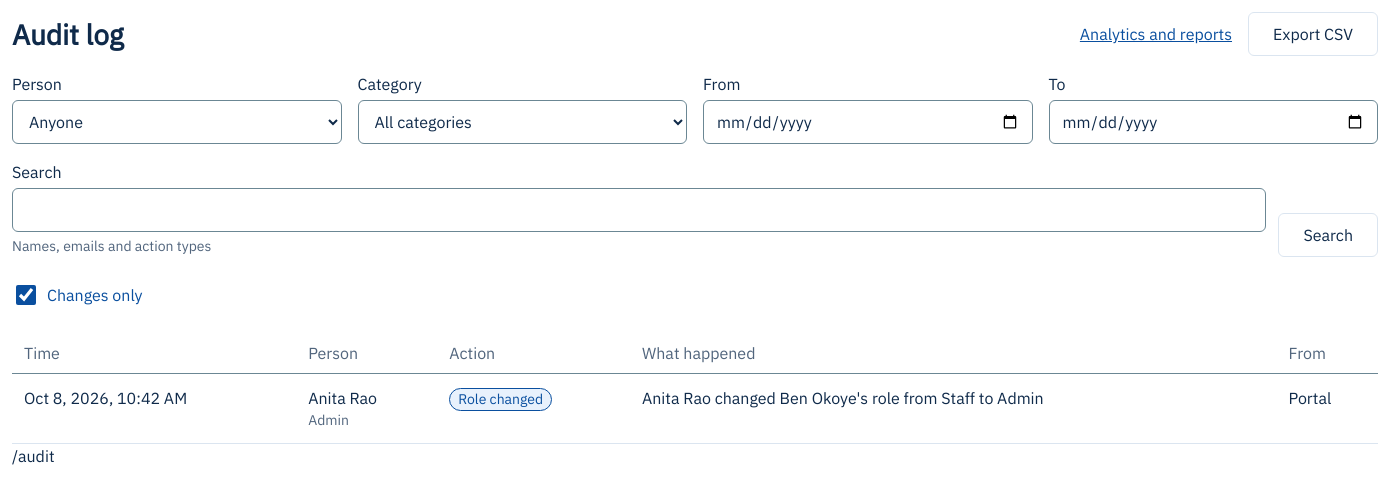
Scenario: AuditPage › filters › filters by person, category and date range and reflects them in the address
The image size is (1390, 483).
Expected: the table named "Audit log" is shown, [12,333,1378,444]
Select "Ben Okoye" in the dropdown labelled "Person" at (177, 122), box [12,100,342,144]
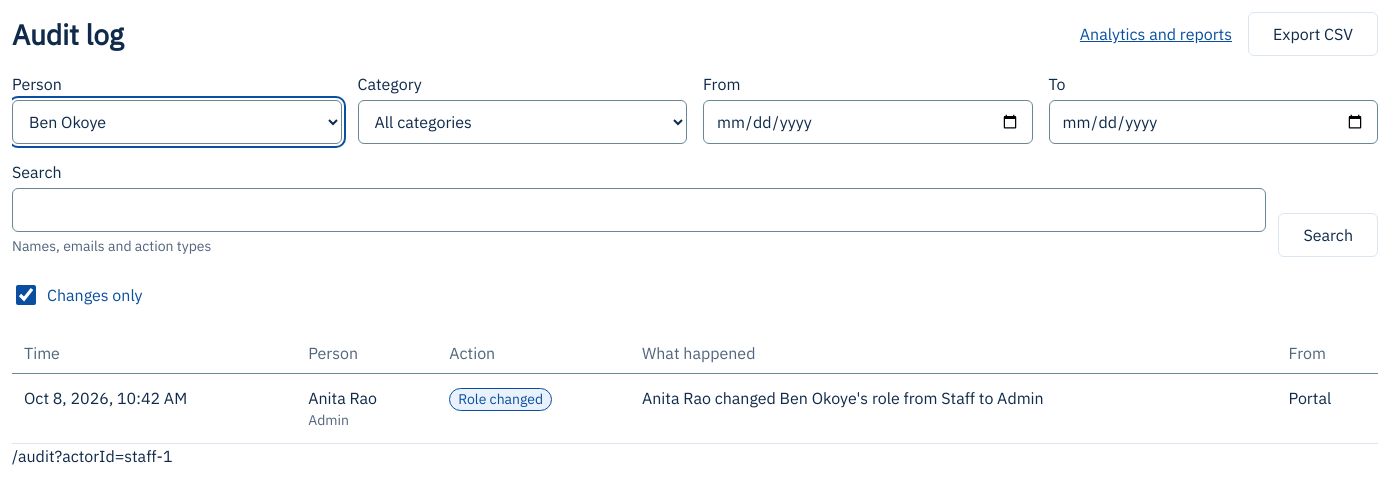
Select "Content" in the dropdown labelled "Category" at (522, 122), box [358,100,687,144]
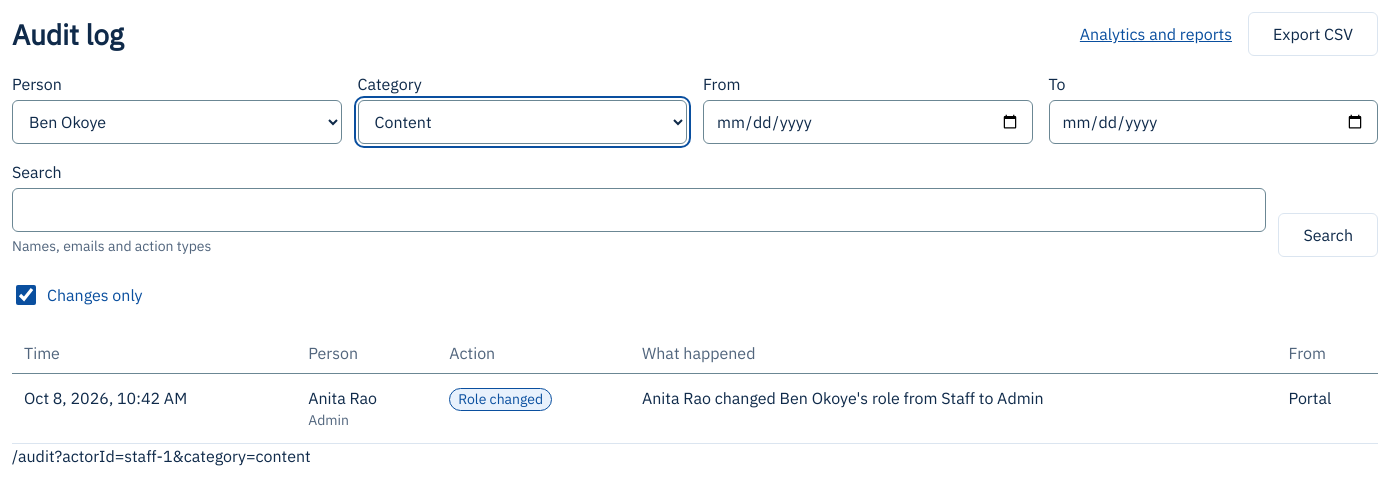
Type "2026-03-02" into the date field labelled "From".
click(868, 122); type("2026-03-02")  # box [703,100,1032,144]
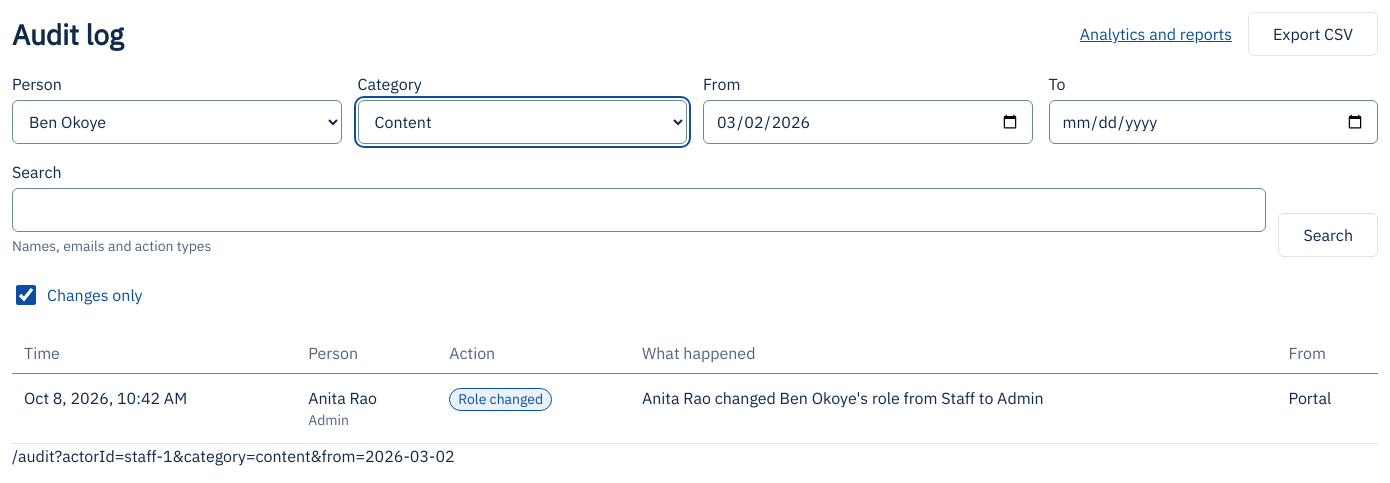
Result: the text with test id "location" shows "actorId=staff-1" at [12,446,455,466]
Result: the text with test id "location" shows "category=content" at [12,446,455,466]
Result: the text with test id "location" shows "from=2026-03-02" at [12,446,455,466]
